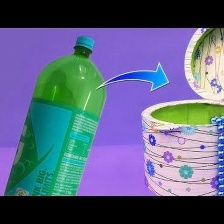bottle: (1, 30, 109, 200)
